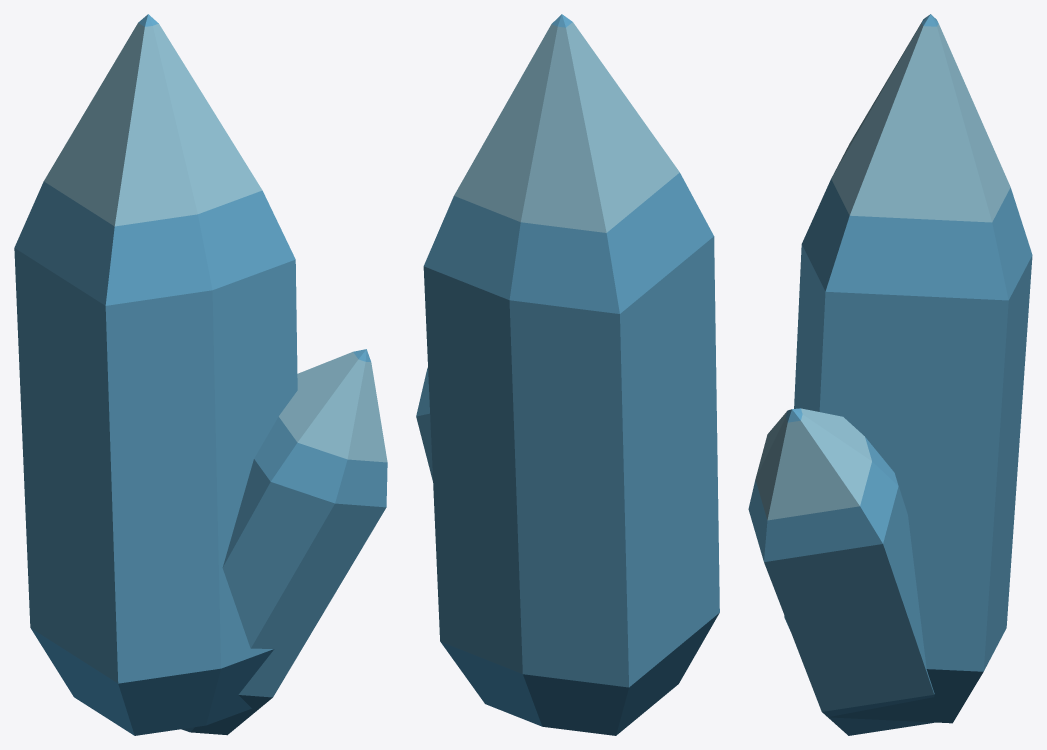
Rendered from crystal.gltf.
The picture shows the model from 3 angles, left to right: view 1: azimuth 30°, elevation 25°; view 2: azimuth 150°, elevation 25°; view 3: azimuth 270°, elevation 25°; orthographic projection. The views are drawn at different scales.
Parts seen in each view (by area): view 1: crystal; view 2: crystal; view 3: crystal.
Boxes of the visible parts, bbox=[...] form: crystal: bbox=[14, 14, 387, 735]; crystal: bbox=[416, 14, 719, 735]; crystal: bbox=[748, 14, 1032, 735].
Bounding box in the file's own units: 0.12 × 0.3081 × 0.1128.
